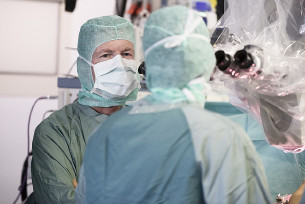face_mask: (92, 36, 138, 96)
